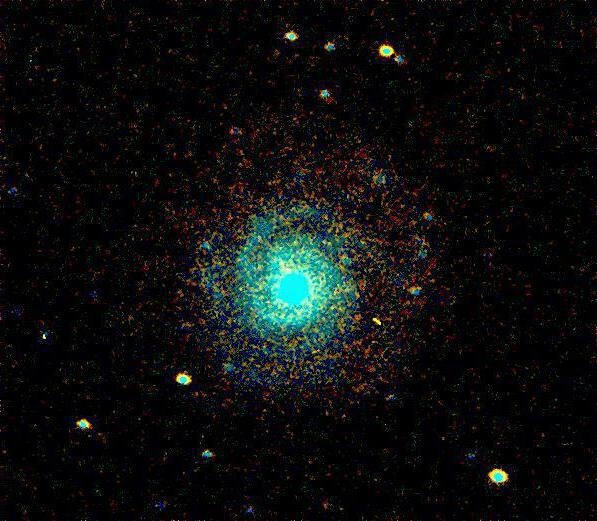star: (359, 311, 389, 341)
